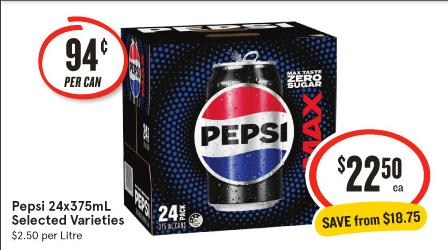description_block: (7, 196, 129, 229)
price_main: (331, 145, 412, 199)
product_image_block: (120, 20, 320, 219)
promo_text_block: (324, 208, 427, 229)
unit_price_block: (8, 228, 85, 244)
